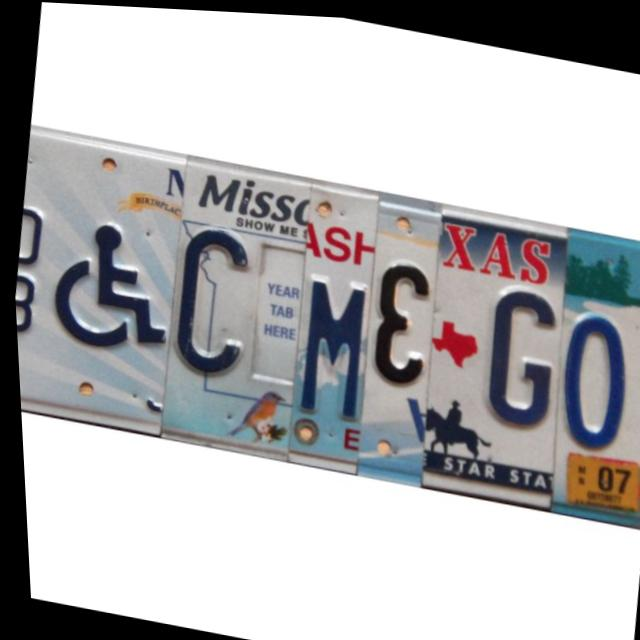symbol_of_access: (40, 205, 182, 360)
